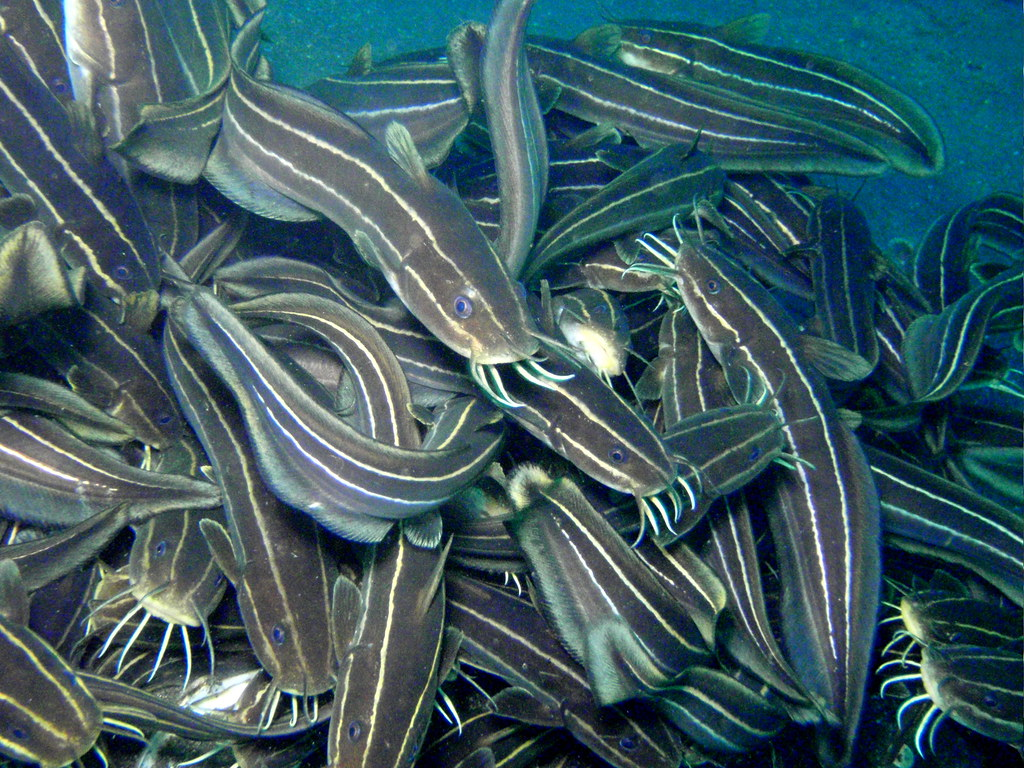gonzui: (208, 27, 564, 373)
